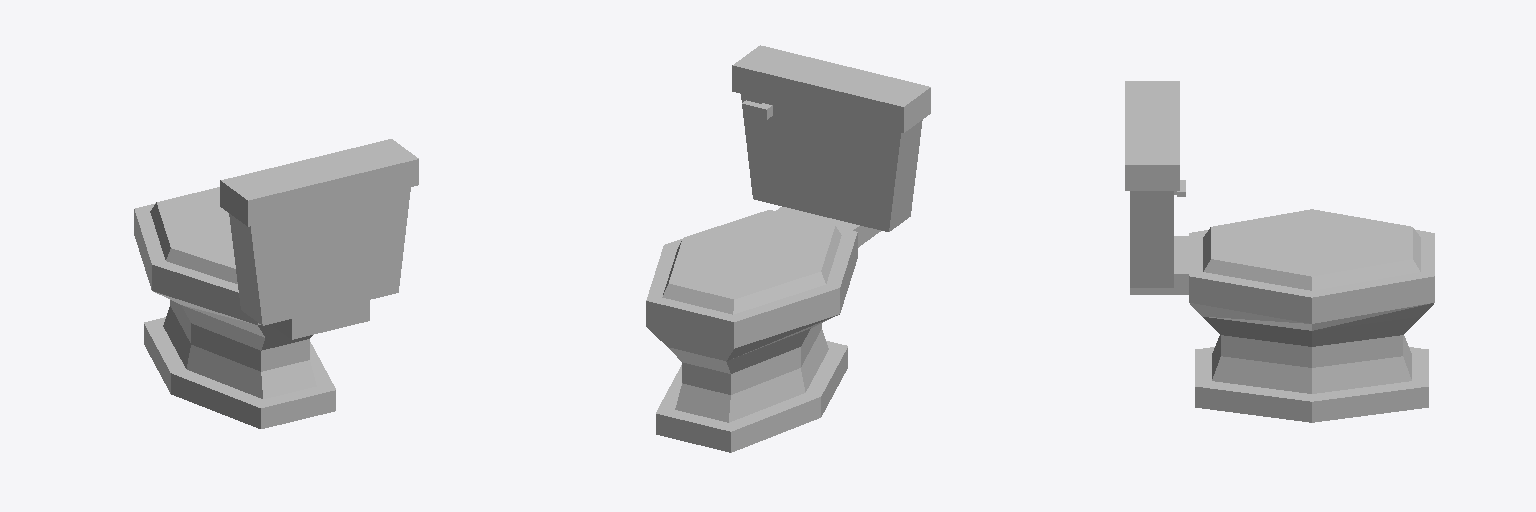
Rendered from toilet.obj.
3 renders of one model, left to right at view 1: azimuth 30°, elevation 25°; view 2: azimuth 150°, elevation 25°; view 3: azimuth 270°, elevation 25°, orthographic.
Parts seen in each view (by area): view 1: toilet, cover; view 2: toilet, cover; view 3: toilet, cover.
Part boxes in pixels (x1,y1,x2,y2): toilet: (134, 139, 418, 428); cover: (150, 187, 237, 283); toilet: (646, 45, 930, 452); cover: (662, 210, 841, 314); toilet: (1125, 81, 1434, 422); cover: (1203, 209, 1420, 290).
Size of the model in its own units: 0.3126 by 0.451 by 0.4772.